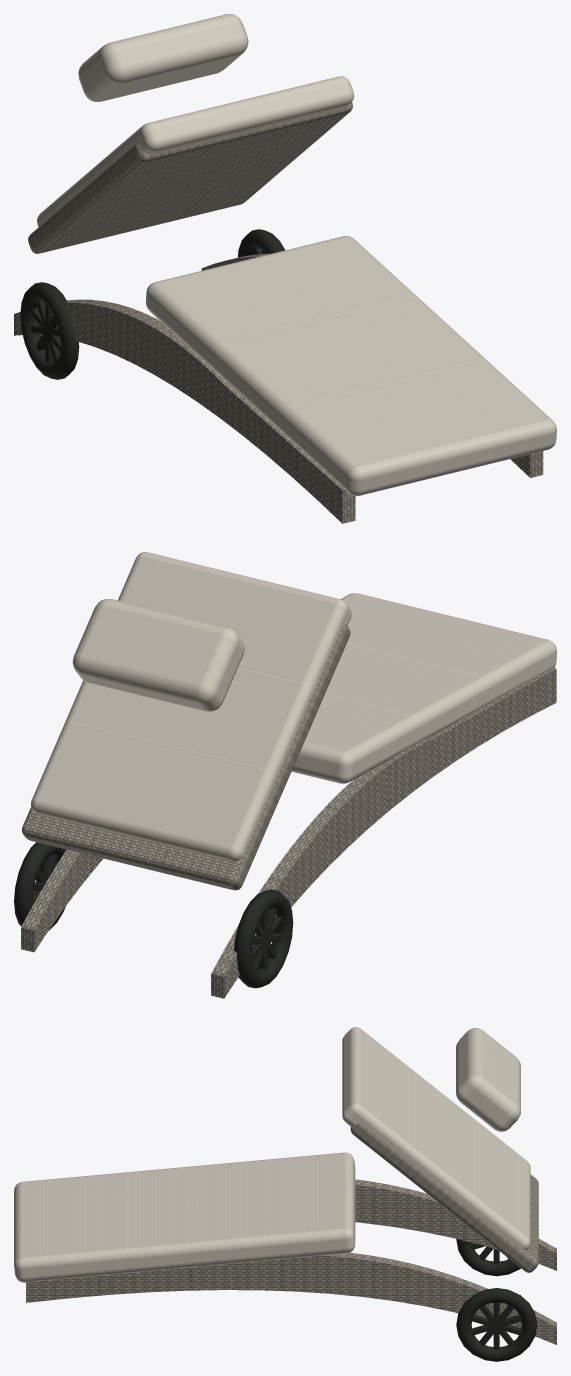
File: premium-lounger.glb
The picture shows the model from 3 angles, top to bottom: view 1: azimuth 30°, elevation 25°; view 2: azimuth 150°, elevation 25°; view 3: azimuth 270°, elevation 25°; orthographic projection. The views are drawn at different scales.
Parts seen in each view (by area): view 1: premium-lounger; view 2: premium-lounger; view 3: premium-lounger.
Boxes of the visible parts, bbox=[...] form: premium-lounger: bbox=[14, 14, 556, 523]; premium-lounger: bbox=[14, 552, 556, 998]; premium-lounger: bbox=[14, 1027, 556, 1361].
Size of the model in its own units: 0.796 by 1.08 by 1.98.
Materials: 3 (2 with a texture image).
